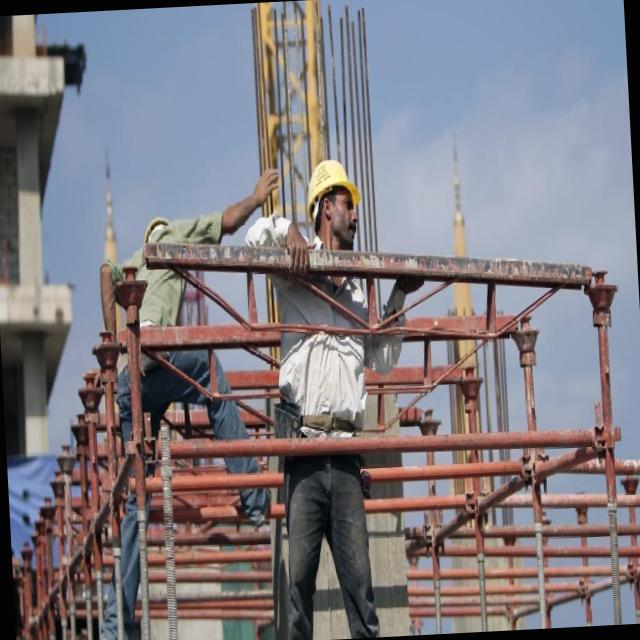helmet: (302, 160, 363, 225)
no-goggles: (331, 192, 356, 212)
no-vest: (278, 258, 366, 426)
